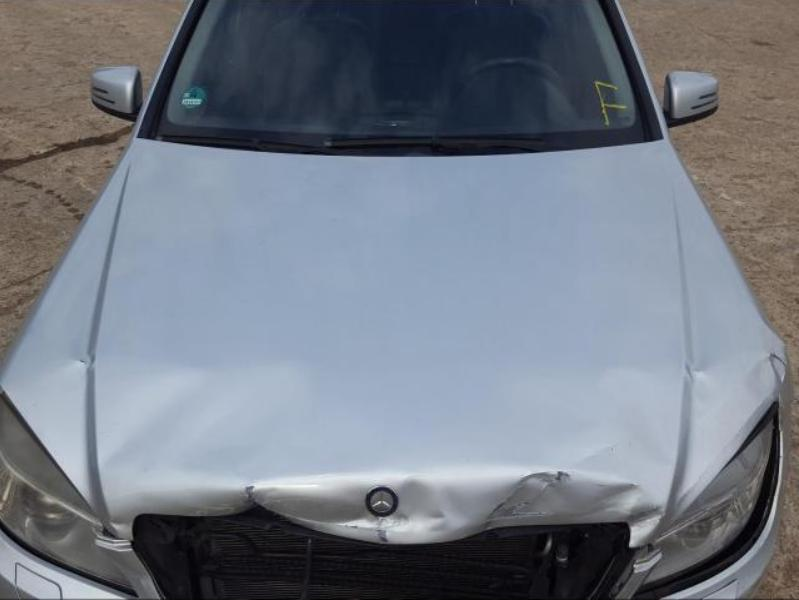Front-bumper: (0, 526, 124, 599), (665, 537, 770, 599), (97, 541, 162, 600), (607, 553, 658, 599)
Grille: (127, 508, 638, 600)
Headlight: (634, 401, 784, 586), (0, 394, 136, 591)
Hood: (0, 135, 790, 546)
Mirror: (656, 70, 722, 129), (89, 59, 147, 124)
Windshield: (137, 0, 663, 160)
